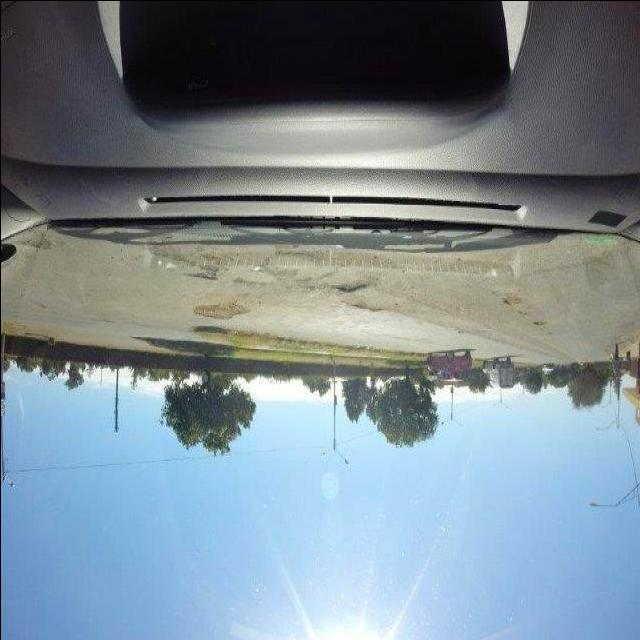lubang: (340, 294, 392, 314), (331, 277, 373, 299), (192, 307, 257, 321), (498, 292, 524, 310)
